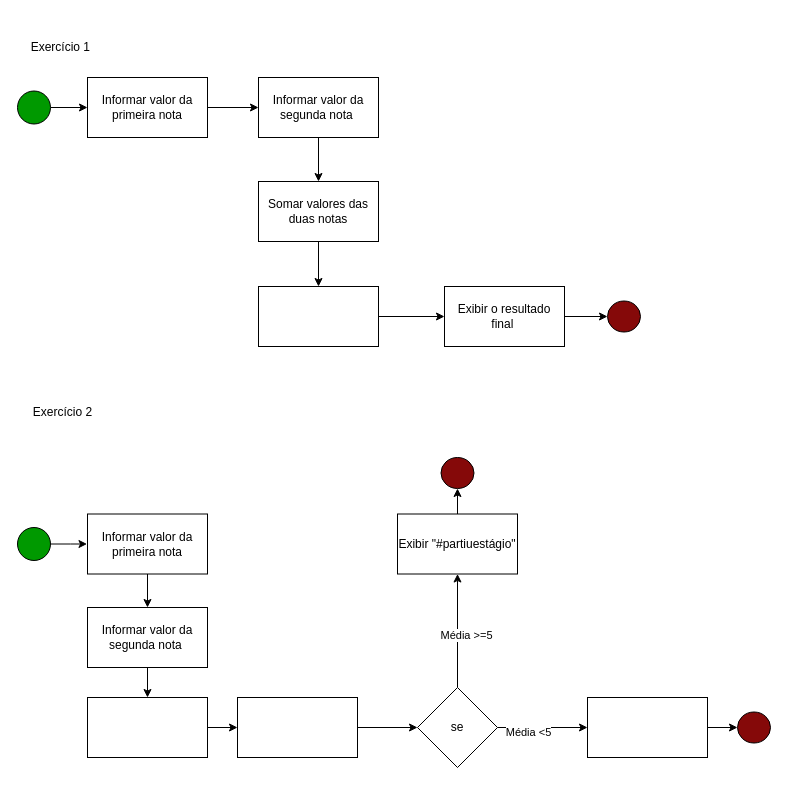
This 788x785 diagram has some shape labels left out. The shapes that lost their labels are listed below. From the top down, each one's centre as x and y in pixels, then its label:
the point at 318,316: Dividir o novo valor pela quantidade de notas
the point at 147,727: Somar o valor de ambas as notas
the point at 297,727: Dividir o valor pela quantidade de notas
the point at 647,727: #partiutentardenovo
